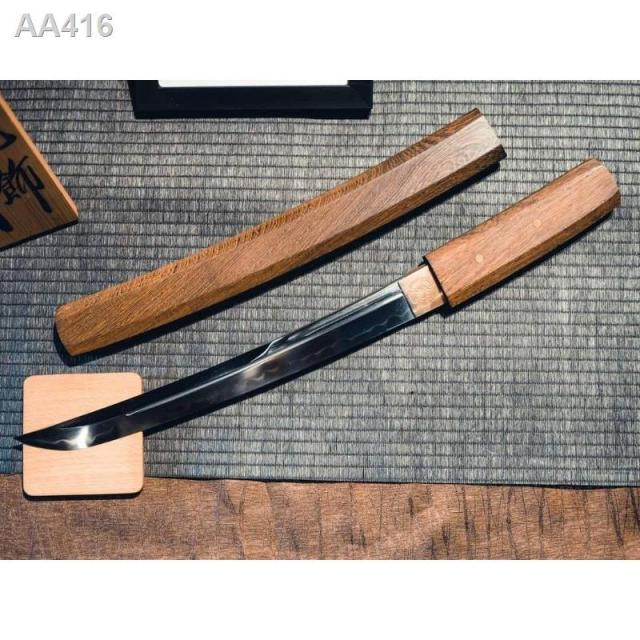short sword: (19, 103, 632, 487)
